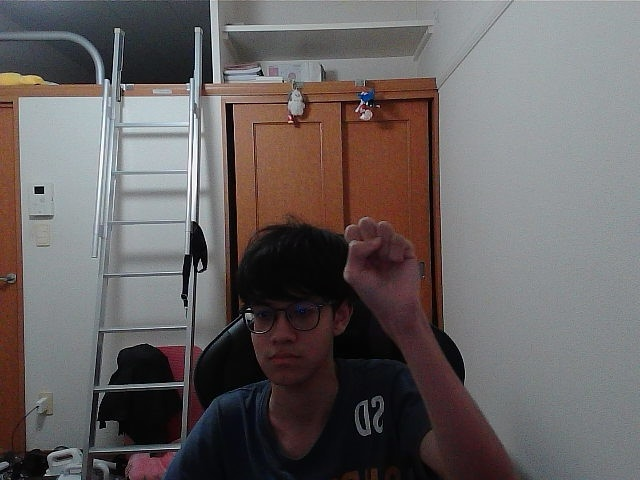closed_palm: (351, 224, 405, 299)
